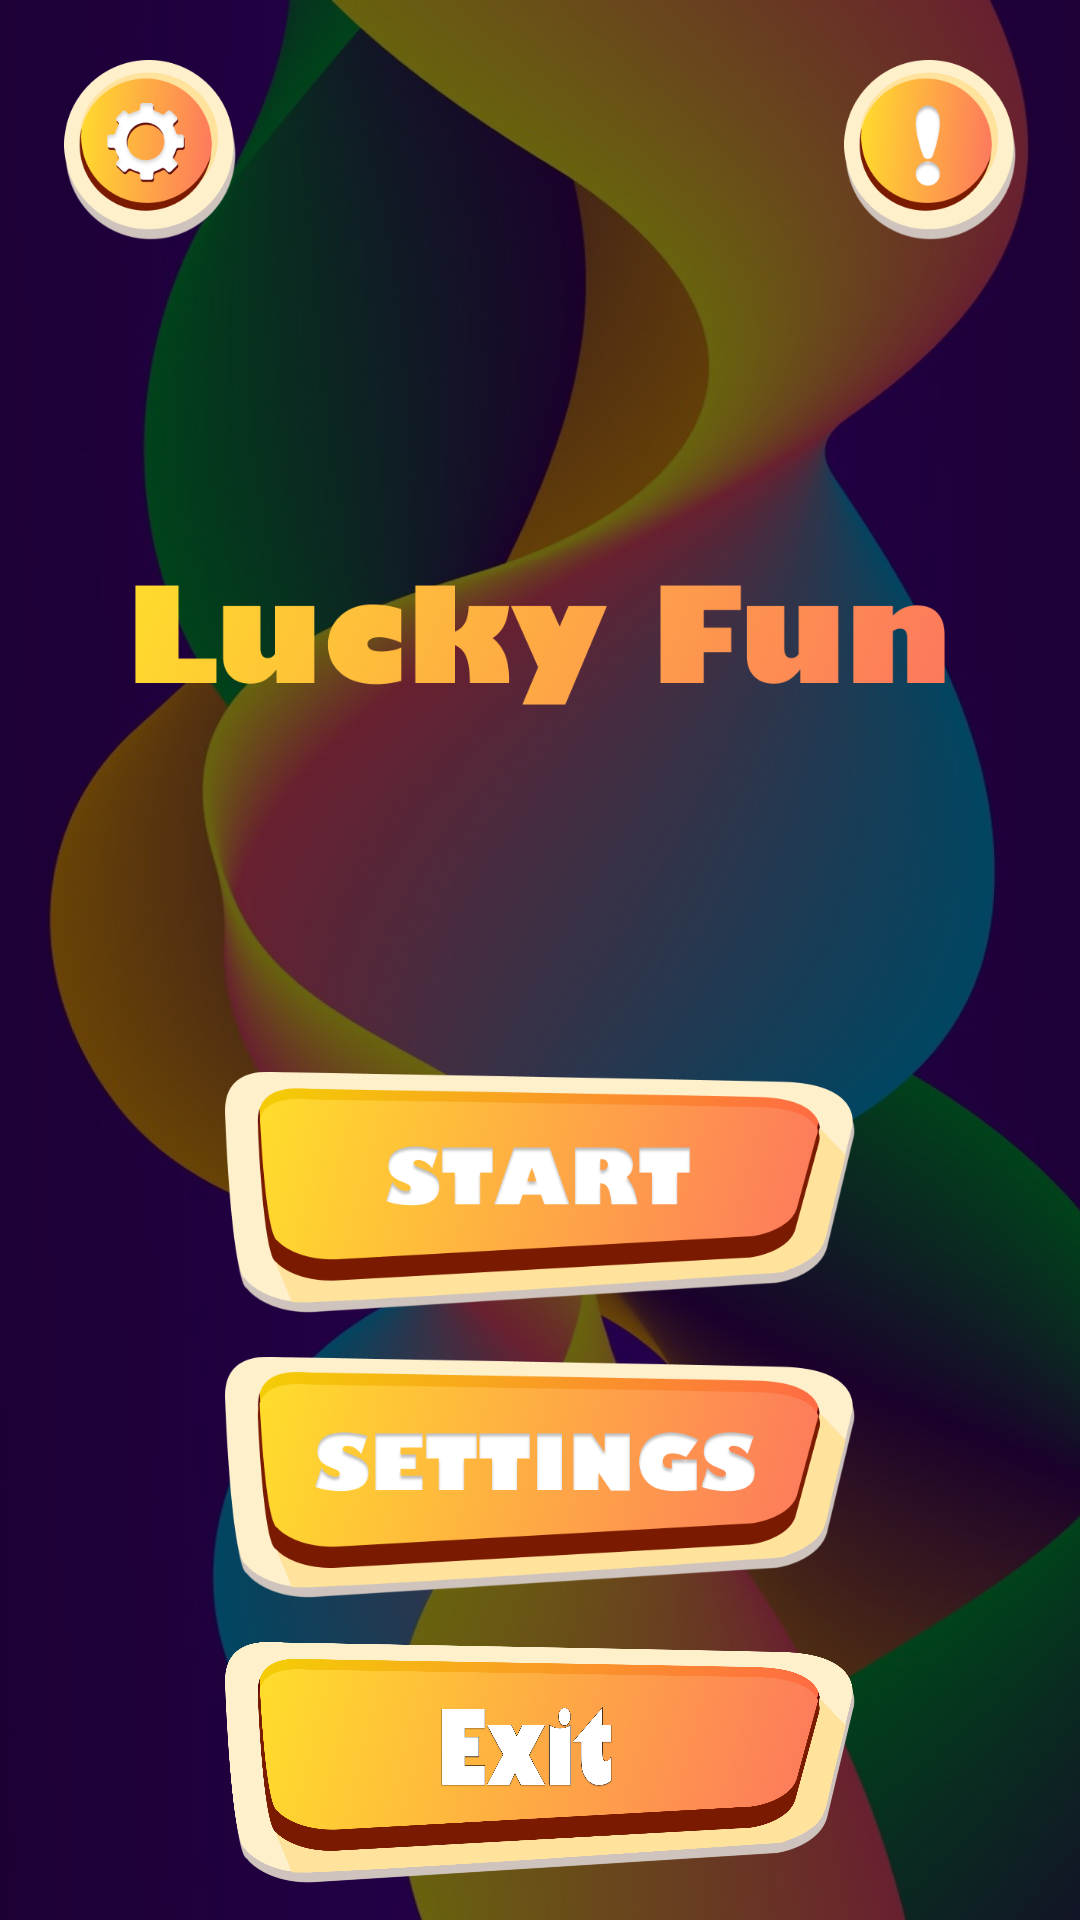

Screen size 1080px×1920px. Icon name, then its box in pixels as (x1, y1, x2, y2):
settings round: (64, 60, 240, 240)
